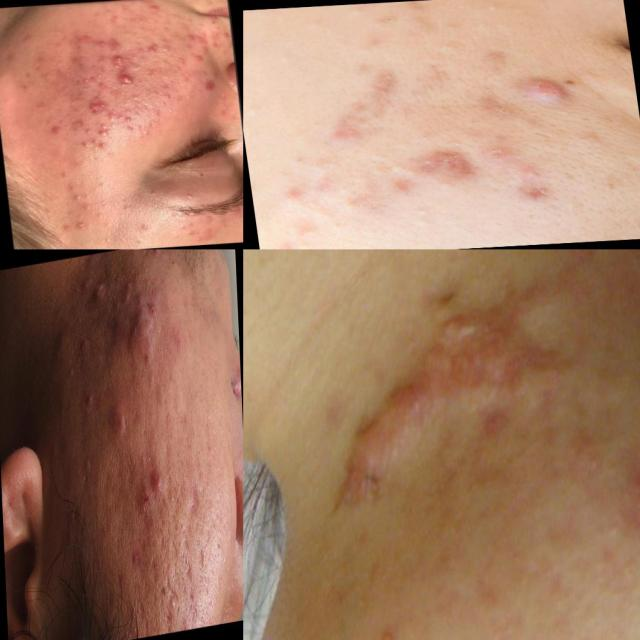acne_scars: (346, 51, 409, 114), (423, 139, 473, 183), (178, 532, 194, 584), (185, 476, 201, 520), (145, 552, 163, 589), (195, 538, 208, 573)
comedone: (396, 204, 442, 231), (514, 154, 554, 180), (424, 34, 471, 56), (67, 190, 96, 213), (80, 384, 99, 419), (472, 0, 508, 17), (163, 587, 182, 614), (381, 158, 408, 176), (177, 219, 200, 240), (155, 34, 174, 58), (65, 354, 78, 385), (183, 187, 204, 203), (134, 220, 153, 237), (126, 92, 144, 103), (104, 109, 120, 121), (149, 88, 162, 98), (165, 12, 183, 19), (142, 86, 152, 98), (110, 15, 123, 24), (5, 53, 16, 62), (183, 16, 195, 24), (122, 28, 132, 36), (161, 26, 171, 33)
cystic: (119, 280, 162, 363), (109, 398, 128, 445), (88, 274, 110, 304), (152, 457, 166, 499)
keloid: (315, 262, 555, 532), (609, 443, 640, 528)
papule: (514, 64, 587, 101), (124, 473, 162, 544), (101, 38, 127, 56), (199, 78, 219, 92), (144, 42, 164, 56), (192, 30, 207, 44), (45, 124, 63, 135), (74, 119, 92, 130), (181, 32, 196, 44), (78, 76, 94, 86), (191, 53, 206, 63), (220, 28, 233, 39), (148, 2, 161, 12), (95, 39, 109, 48), (96, 81, 108, 91)
pustule: (69, 218, 92, 234), (96, 120, 115, 138), (146, 249, 166, 264), (111, 51, 130, 65), (123, 123, 137, 133), (109, 62, 124, 71), (122, 114, 135, 124), (97, 142, 109, 150), (90, 137, 101, 145), (81, 140, 91, 148), (82, 127, 93, 134)
sebo-crystan-conglo: (78, 98, 108, 115), (112, 72, 140, 88)
